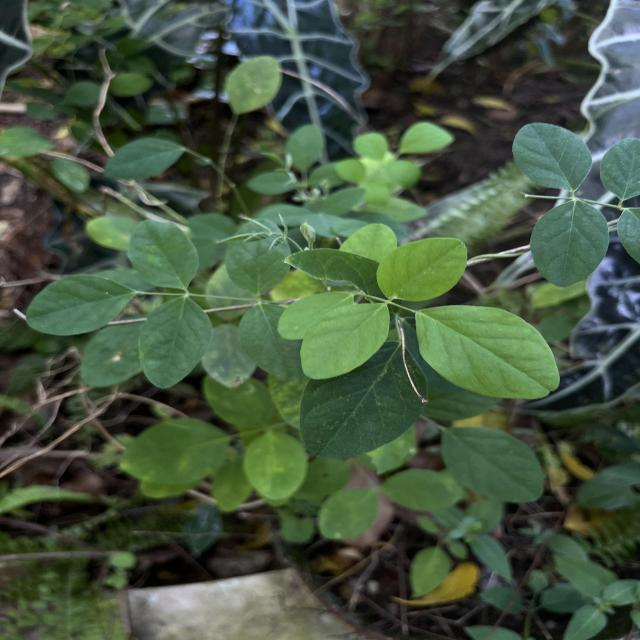Clitoria ternatea: (414, 304, 562, 401), (299, 302, 391, 381), (528, 200, 610, 288), (376, 236, 468, 302), (511, 122, 593, 192)
